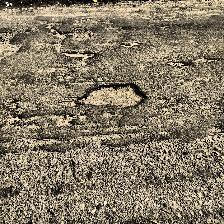pothole: (76, 82, 148, 108), (47, 27, 73, 39), (58, 52, 96, 56)
